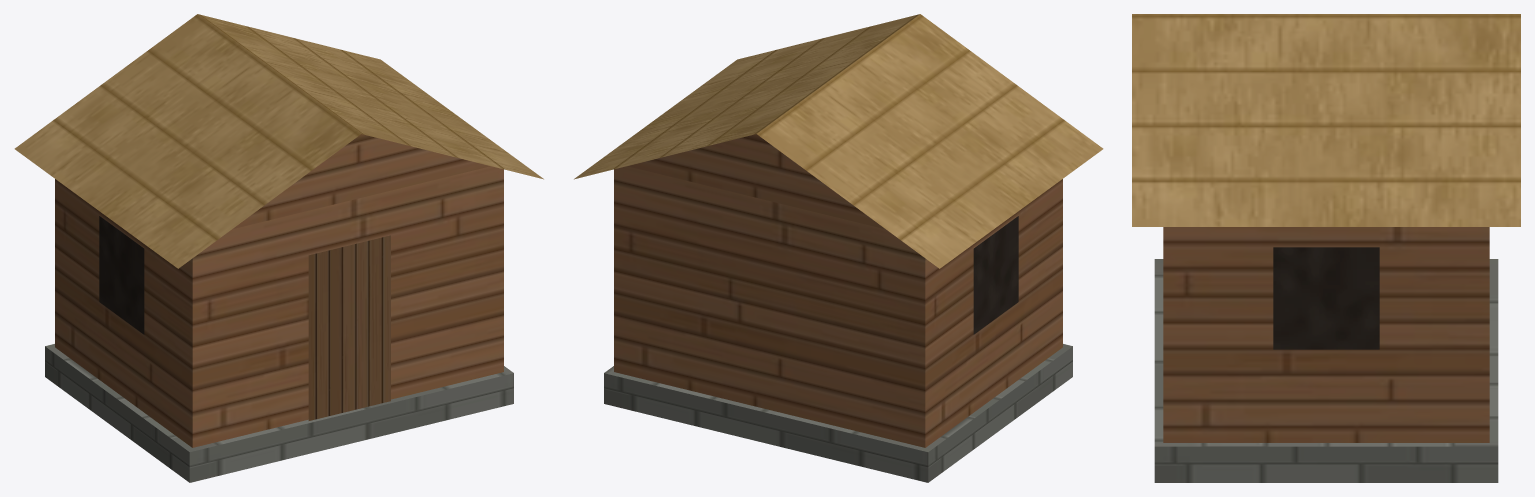
Rendered from ae_sand_wood_small_booth_lod2.glb.
3 renders of one model, left to right at view 1: azimuth 30°, elevation 25°; view 2: azimuth 150°, elevation 25°; view 3: azimuth 270°, elevation 25°, orthographic. The views are drawn at different scales.
Visible parts, largest first — view 1: ae_sand_wood_small_booth_lod2; view 2: ae_sand_wood_small_booth_lod2; view 3: ae_sand_wood_small_booth_lod2.
Part boxes in pixels (x1,y1,x2,y2): ae_sand_wood_small_booth_lod2: (14,14,543,482); ae_sand_wood_small_booth_lod2: (574,14,1103,482); ae_sand_wood_small_booth_lod2: (1132,14,1520,482).
Size of the model in its own units: 4 by 3.3 by 3.1.
Materials: 1 (1 with a texture image).
